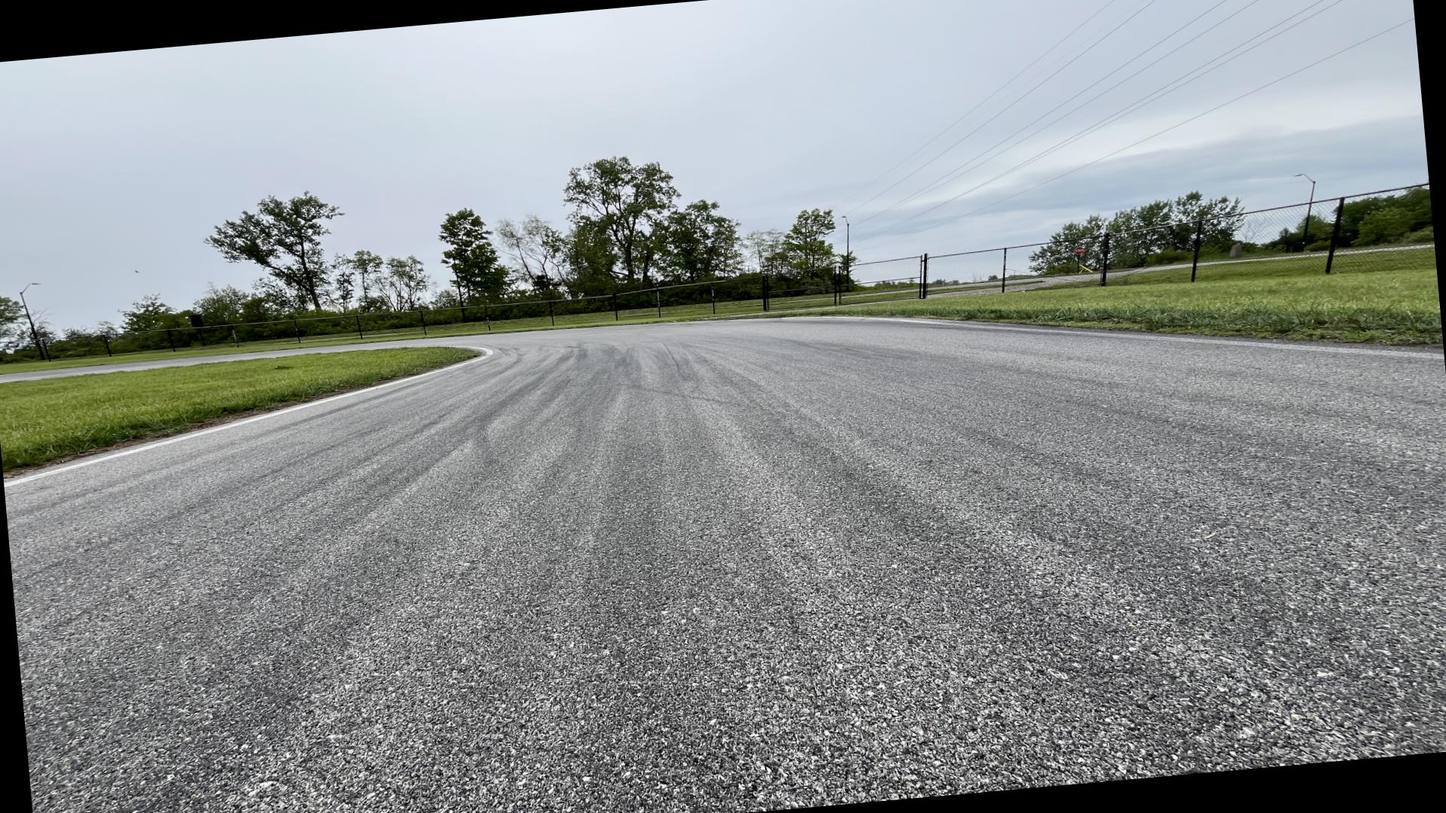white-line: (4, 344, 493, 489), (493, 313, 1444, 361)
